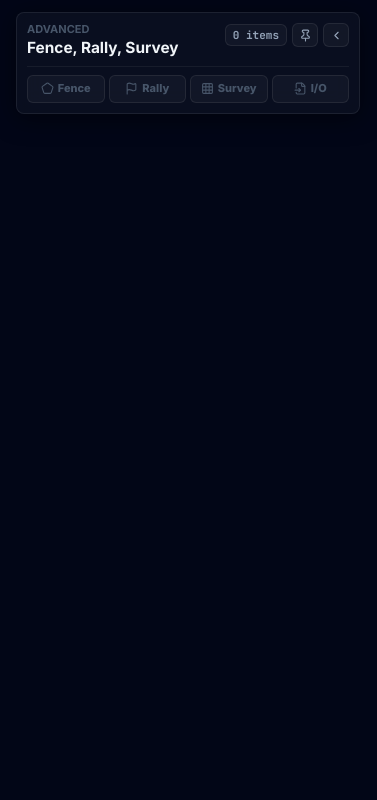
Scenario: AdvancedMissionPanel › opens a Survey form from a map draft after Create survey
This screenshot has width=377, height=800.
Click the tab "Survey" at (229, 89), box left=190, top=75, right=268, bottom=103
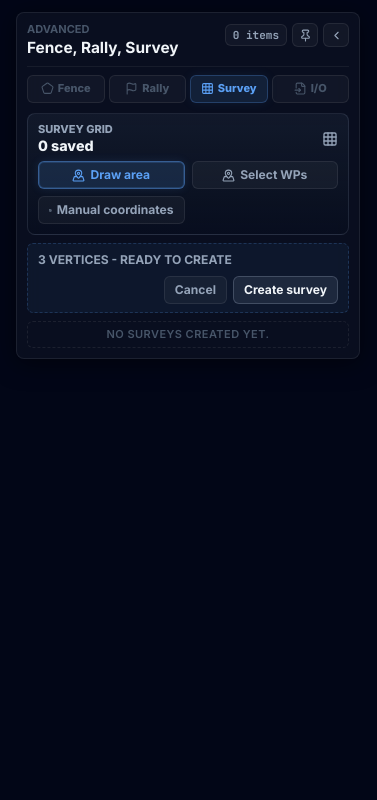
expect the text "3 vertices - ready to create" is shown: met, box left=38, top=252, right=232, bottom=267
Click the button with aria-label "Create survey from draft" at (286, 290), box left=233, top=276, right=338, bottom=304
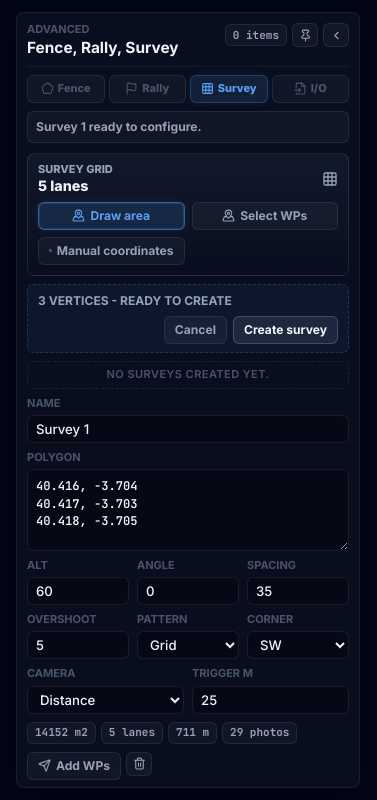
expect the text "Add WPs" is shown: met, box left=56, top=760, right=110, bottom=772
